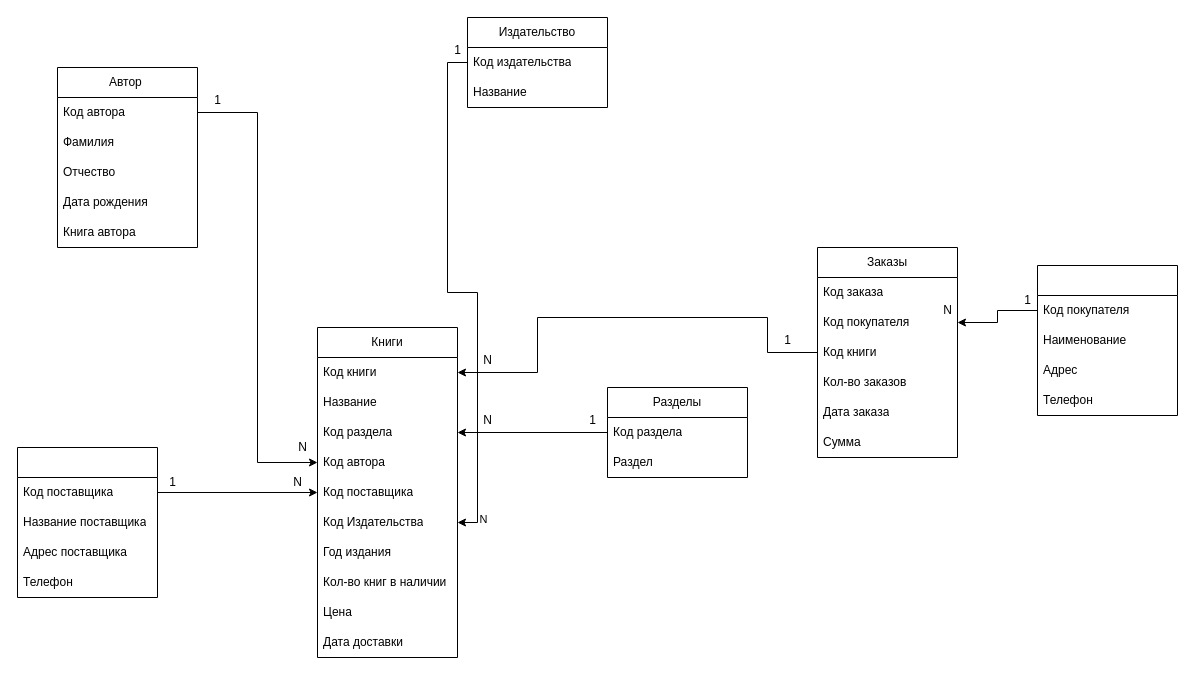
This 1195x675 diagram has some shape labels left out. The box of each missing label's shape, as (x1, y1, x2, y2) in pixels:
Покупатели: (1036, 264, 1178, 416)
Поставщики: (16, 446, 158, 598)
